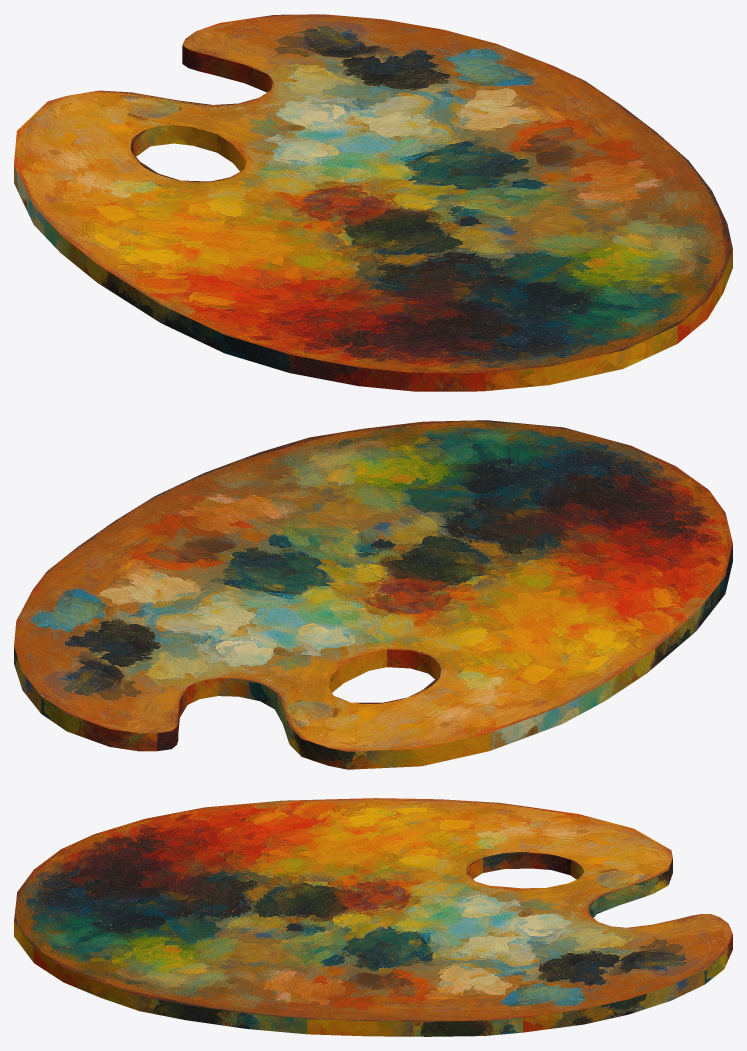
The model's file is SM_artpalette.fbx.
3 views of the same model, one above another, from view 1: azimuth 30°, elevation 25°; view 2: azimuth 150°, elevation 25°; view 3: azimuth 270°, elevation 25° (orthographic). The views are drawn at different scales.
Parts seen in each view (by area): view 1: artpalettte; view 2: artpalettte; view 3: artpalettte.
Part boxes in pixels (box(x1,y1,x2,y2)): artpalettte: box(14, 14, 732, 391); artpalettte: box(14, 420, 732, 769); artpalettte: box(14, 798, 732, 1036).
Bounding box in the file's own units: 13.7 × 0.4366 × 18.63.
1 material, 1 textured.
